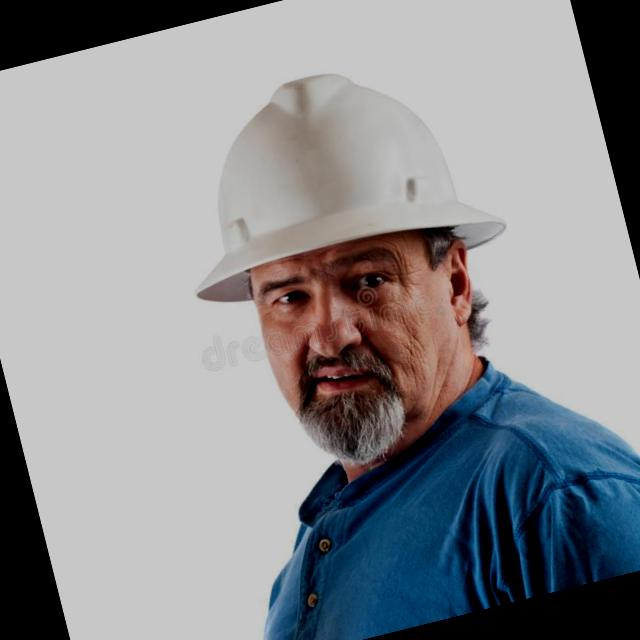helmet: (129, 28, 526, 310)
no-vest: (189, 324, 640, 640)
